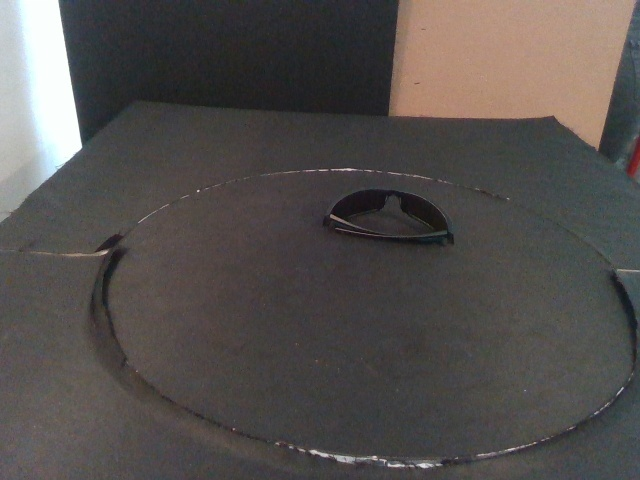glasses: (320, 185, 456, 249)
